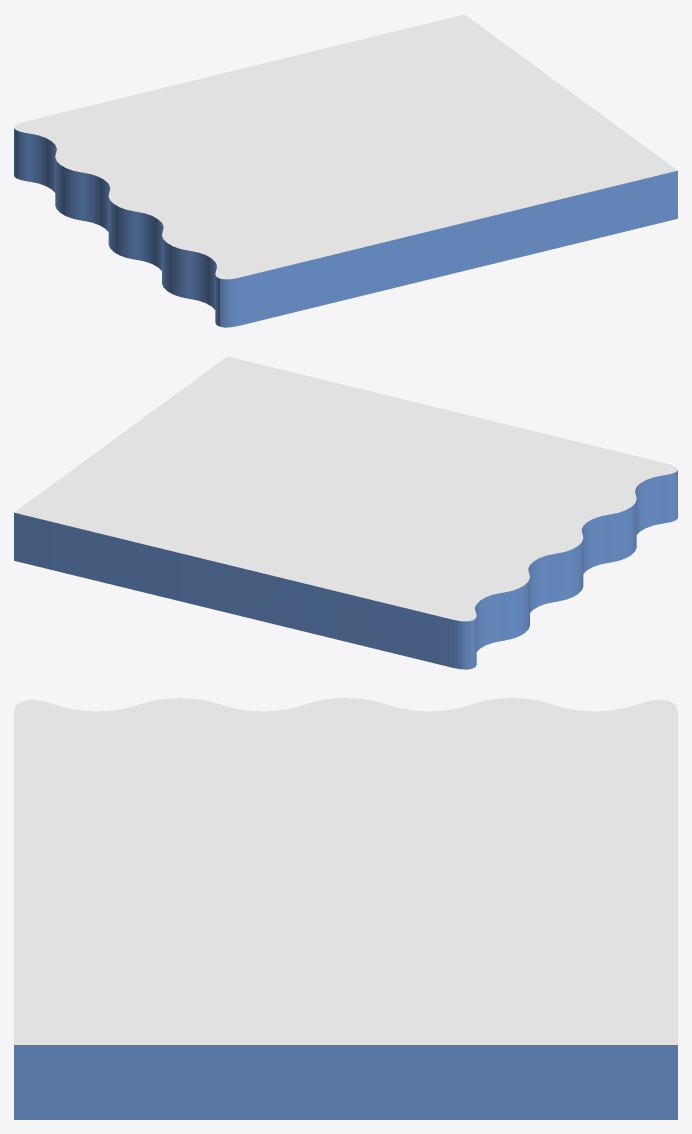
Rendered from Hill002.fbx.
3 views of the same model, one above another, from view 1: azimuth 30°, elevation 25°; view 2: azimuth 150°, elevation 25°; view 3: azimuth 270°, elevation 25° (orthographic). The views are drawn at different scales.
Visible parts, largest first — view 1: Hill002; view 2: Hill002; view 3: Hill002.
Boxes of the visible parts, left/top/right/bottom form: Hill002: left=14, top=14, right=677, bottom=327; Hill002: left=14, top=356, right=677, bottom=669; Hill002: left=14, top=698, right=677, bottom=1119.
Bounding box in the file's own units: 1988 × 200 × 1607.
